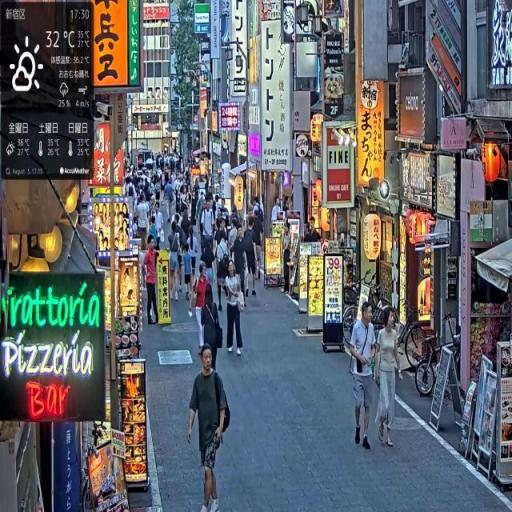person: (187, 343, 232, 512), (350, 302, 379, 455), (373, 308, 403, 455), (224, 263, 247, 358), (190, 261, 212, 358), (202, 286, 223, 376), (144, 236, 160, 328), (168, 220, 185, 301)
